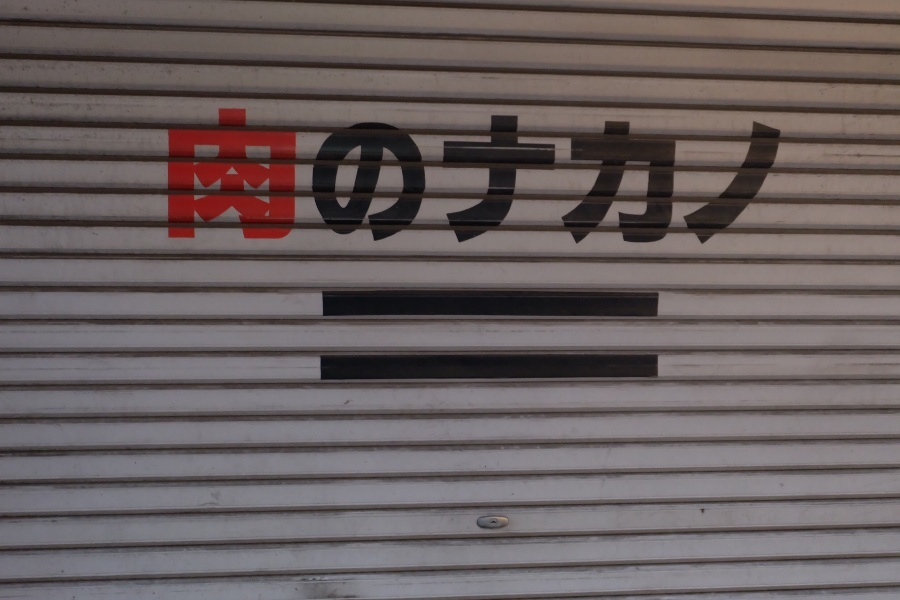text: (177, 107, 192, 247), (193, 107, 208, 247), (209, 107, 224, 247), (225, 107, 240, 247), (241, 107, 256, 247), (257, 107, 272, 247), (273, 107, 288, 247), (289, 107, 304, 247), (305, 107, 320, 247), (321, 107, 336, 247), (337, 107, 352, 247), (353, 107, 368, 247), (369, 107, 384, 247), (385, 107, 400, 247), (401, 107, 416, 247), (417, 107, 432, 247), (433, 107, 448, 247), (449, 107, 464, 247), (465, 107, 480, 247), (481, 107, 496, 247), (497, 107, 512, 247), (513, 107, 528, 247), (529, 107, 544, 247), (545, 107, 560, 247), (561, 107, 576, 247), (577, 107, 592, 247), (593, 107, 608, 247), (609, 107, 624, 247), (625, 107, 640, 247), (641, 107, 656, 247), (657, 107, 672, 247), (673, 107, 688, 247), (689, 107, 704, 247), (705, 107, 720, 247), (721, 107, 736, 247), (737, 107, 752, 247), (753, 107, 768, 247), (769, 107, 782, 247), (168, 107, 176, 247)
